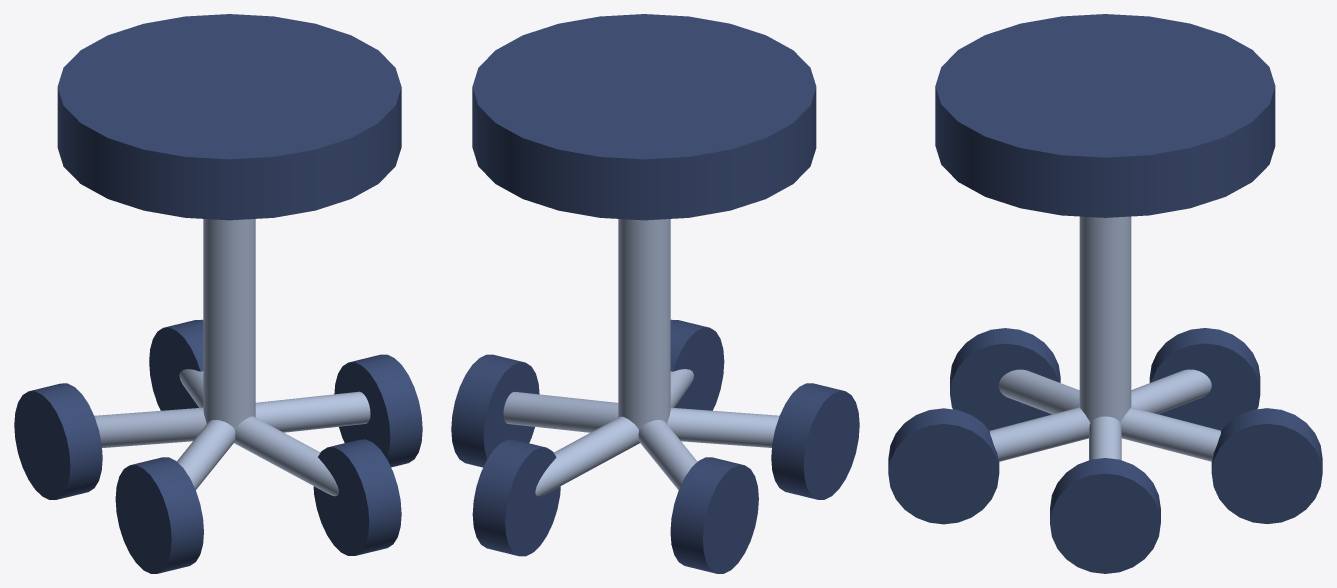
The model's file is stool.glb.
3 renders of one model, left to right at view 1: azimuth 30°, elevation 25°; view 2: azimuth 150°, elevation 25°; view 3: azimuth 270°, elevation 25°, orthographic.
Visible parts, largest first — view 1: seat, caster (×5), foot (×5), support; view 2: seat, caster (×5), foot (×5), support; view 3: seat, caster (×5), foot (×5), support.
Boxes of the visible parts, left/top/right/bottom form: seat: left=57, top=14, right=401, bottom=220; caster (×5): left=14, top=319, right=422, bottom=573; foot (×5): left=94, top=369, right=370, bottom=496; support: left=203, top=219, right=255, bottom=429; seat: left=472, top=14, right=816, bottom=220; caster (×5): left=451, top=319, right=859, bottom=573; foot (×5): left=503, top=369, right=779, bottom=496; support: left=618, top=219, right=670, bottom=429; seat: left=935, top=14, right=1275, bottom=217; caster (×5): left=888, top=328, right=1322, bottom=573; foot (×5): left=990, top=369, right=1220, bottom=461; support: left=1079, top=216, right=1131, bottom=422.
Size of the model in its own units: 0.485 by 0.61 by 0.5876.
